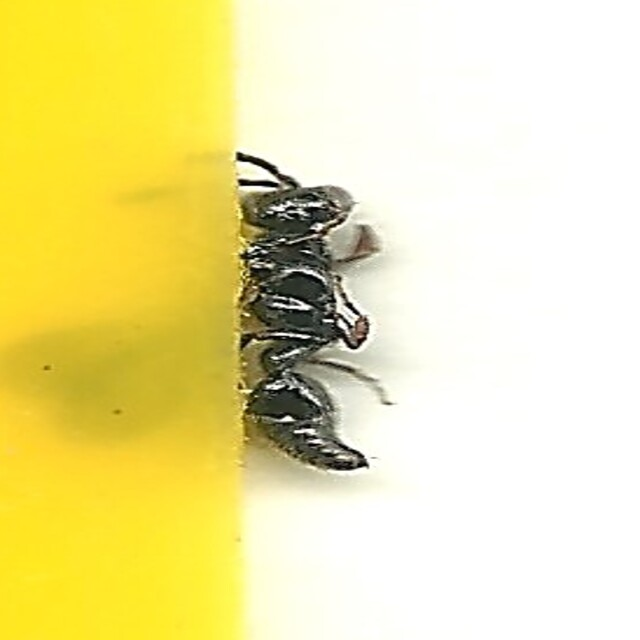Hymenoptera: (234, 150, 406, 490)
